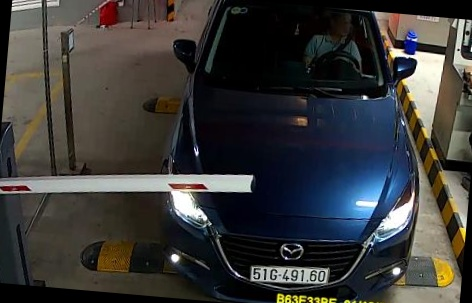plate: (241, 255, 333, 288)
